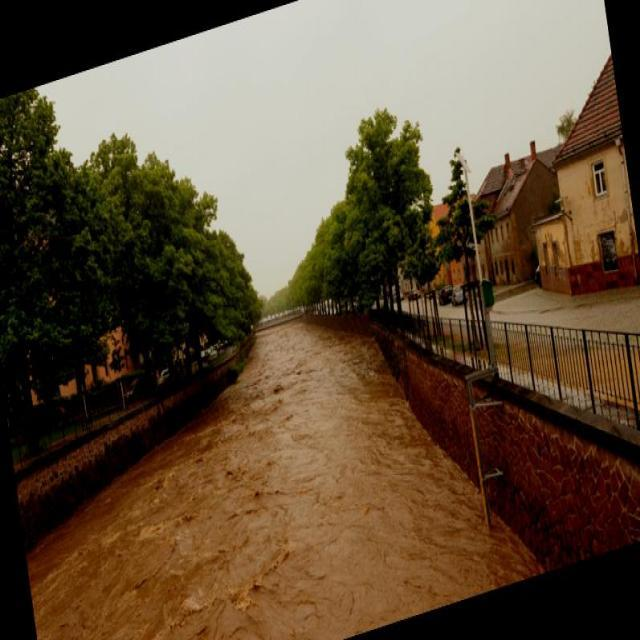flood: (5, 266, 480, 639)
